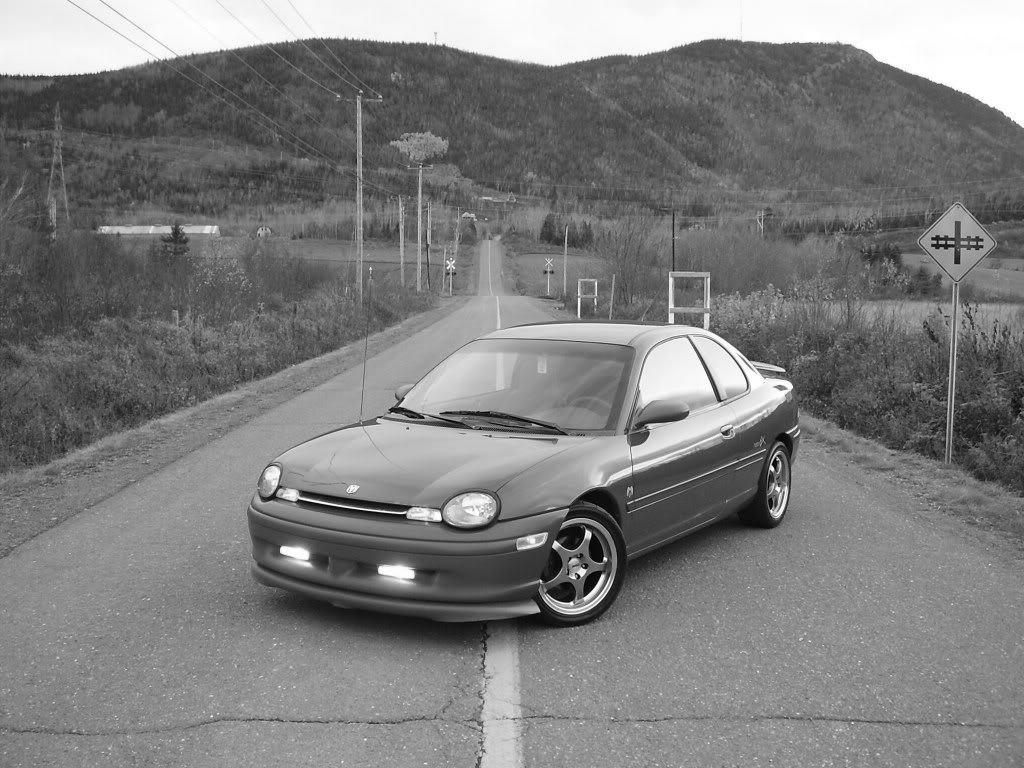car: (243, 318, 805, 629)
